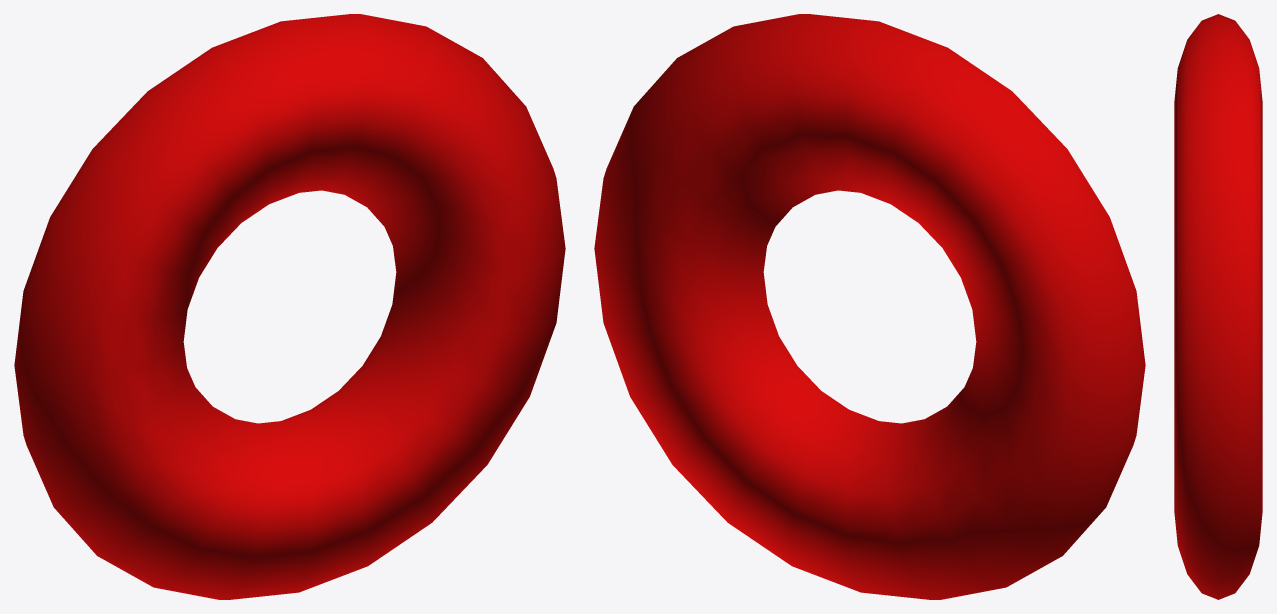
File: oObect.obj
3 renders of one model, left to right at view 1: azimuth 30°, elevation 25°; view 2: azimuth 150°, elevation 25°; view 3: azimuth 270°, elevation 25°, orthographic. The views are drawn at different scales.
Parts seen in each view (by area): view 1: oObect; view 2: oObect; view 3: oObect.
Boxes of the visible parts, x1,y1,x2,y2 form: oObect: (14,14,565,599); oObect: (594,14,1145,599); oObect: (1174,14,1262,599).
Size of the model in its own units: 1 by 1 by 0.15.
